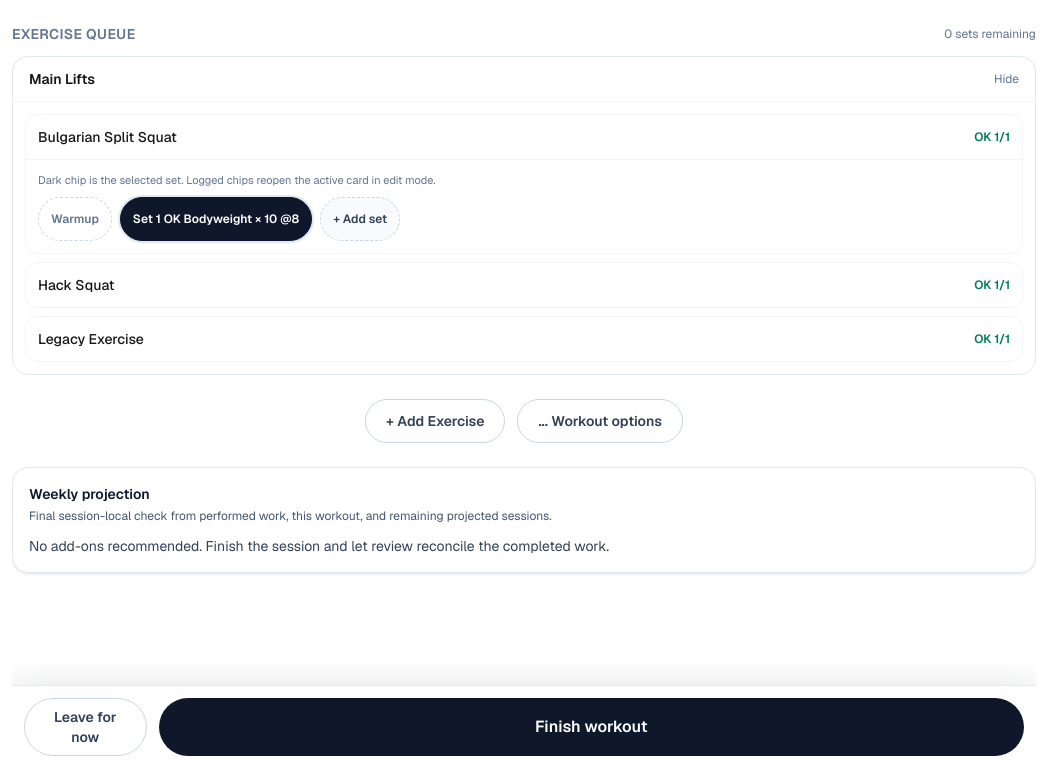
it: LogWorkoutClient UX behavior › formats semantic zero in active queue chips from each frozen snapshot
The image size is (1048, 768).
expect the button "Set 1 OK Bodyweight × 10 @8" is shown: met, box [120,196,312,240]
Click the button "Hack Squat": (76, 284) [38,274,962,294]
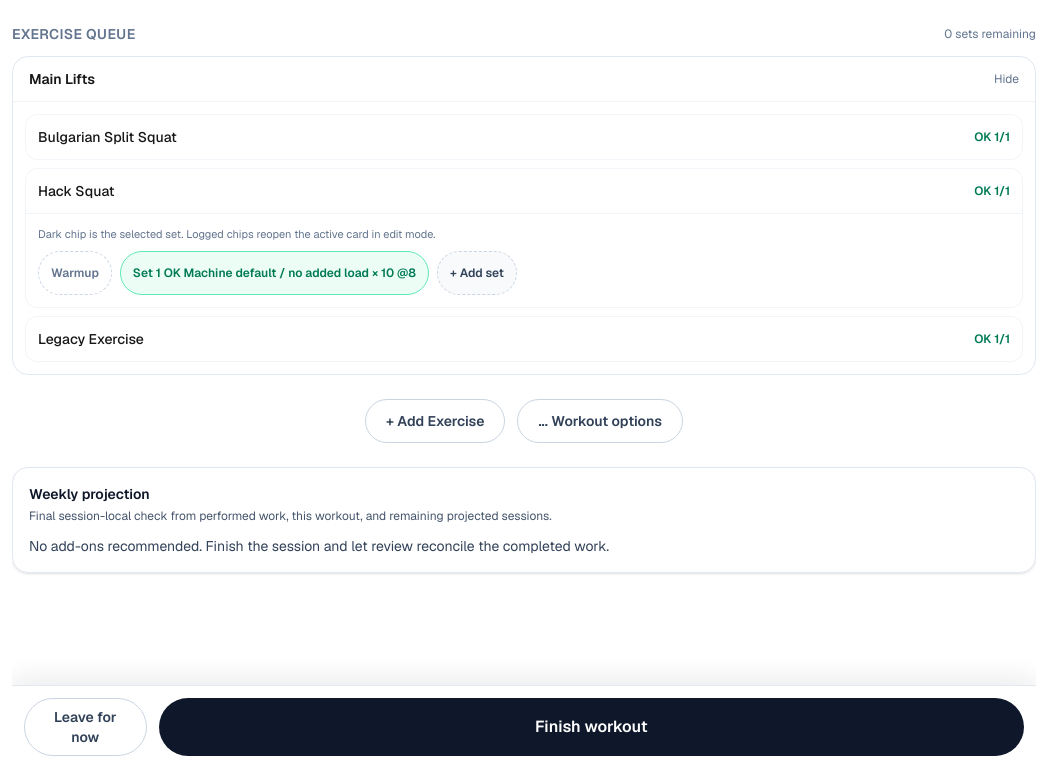
expect the button "Set 1 OK Machine default / no added load × 10 @8" is shown: met, box [120,250,429,294]
Click the button "Legacy Exercise": (91, 338) [38,328,962,348]
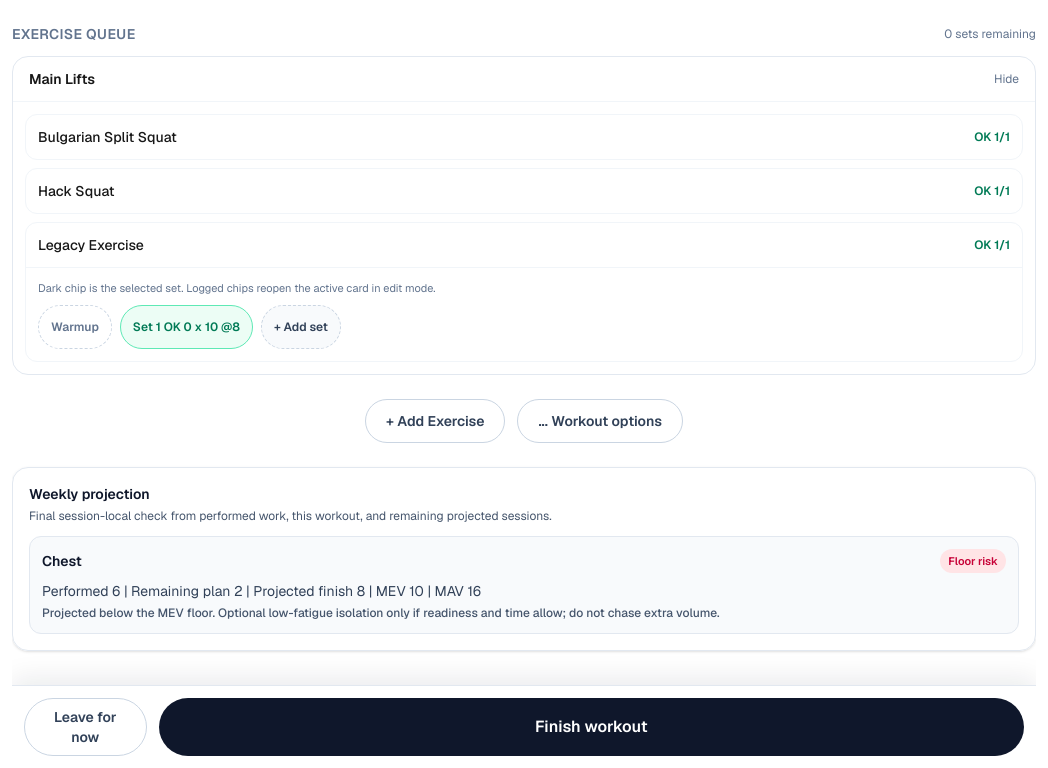
expect the button "Set 1 OK 0 x 10 @8" is shown: met, box [120,304,253,348]
